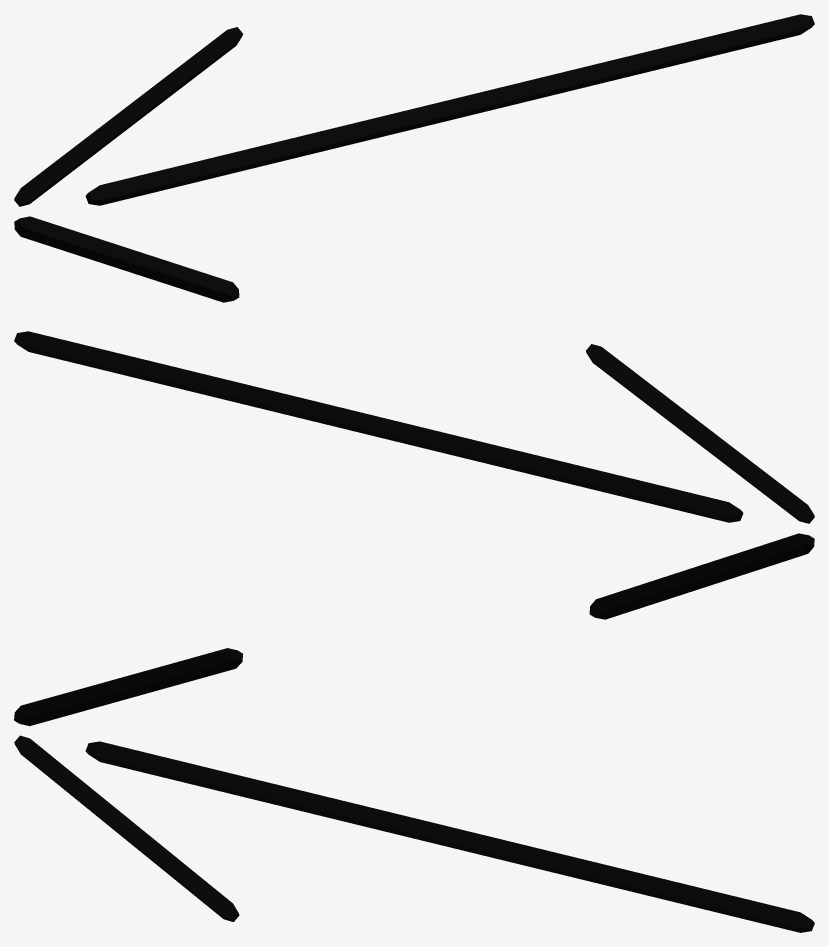
Rendered from SM_Prop_Casino_Neon_16.fbx.
The picture shows the model from 3 angles, top to bottom: view 1: azimuth 30°, elevation 25°; view 2: azimuth 150°, elevation 25°; view 3: azimuth 330°, elevation 25°; orthographic projection.
Visible parts, largest first — view 1: SM_Prop_Casino_Neon_16; view 2: SM_Prop_Casino_Neon_16; view 3: SM_Prop_Casino_Neon_16.
Boxes of the visible parts, x1,y1,x2,y2 form: SM_Prop_Casino_Neon_16: [14, 14, 814, 302]; SM_Prop_Casino_Neon_16: [14, 331, 814, 619]; SM_Prop_Casino_Neon_16: [14, 648, 814, 932].
Bounding box in the file's own units: 185 × 60.49 × 4.57.
